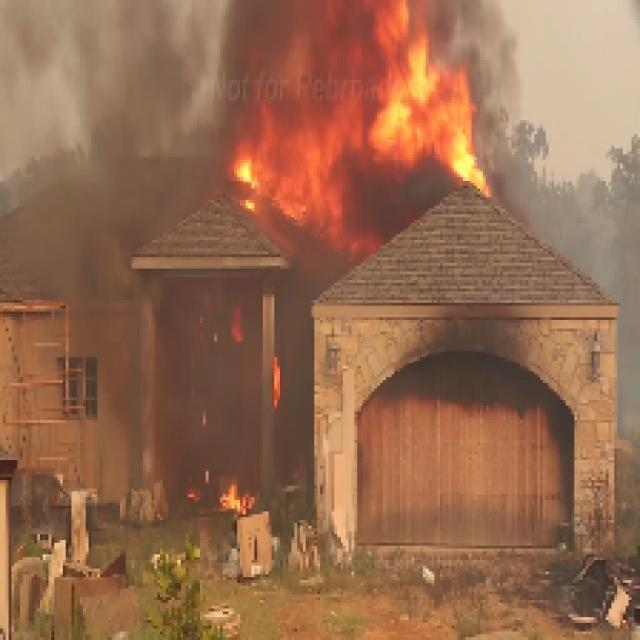fire: (255, 38, 466, 208)
